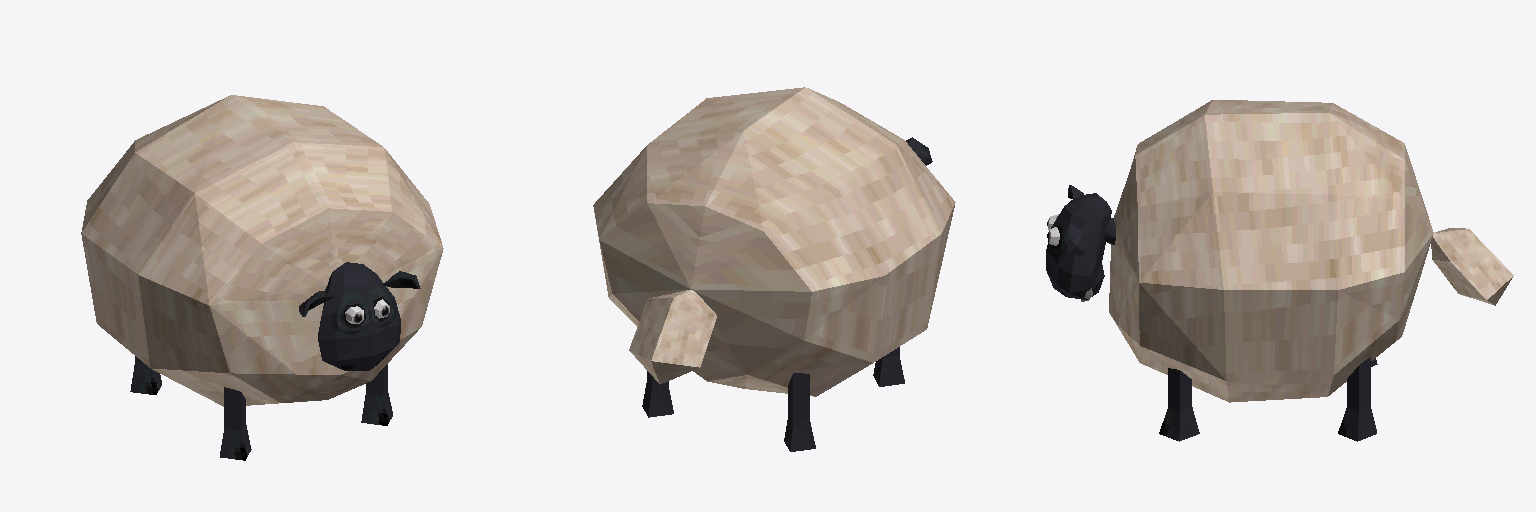
3 views of the same model, side by side, from view 1: azimuth 30°, elevation 25°; view 2: azimuth 150°, elevation 25°; view 3: azimuth 270°, elevation 25° (orthographic).
Parts seen in each view (by area): view 1: mouth_1; view 2: mouth_1; view 3: mouth_1.
Boxes of the visible parts, x1=… form: mouth_1: x1=81, y1=95, x2=443, y2=460; mouth_1: x1=593, y1=87, x2=955, y2=451; mouth_1: x1=1046, y1=100, x2=1513, y2=441.
Bounding box in the file's own units: 10.79 × 10.14 × 15.01.
2 materials, 1 textured.